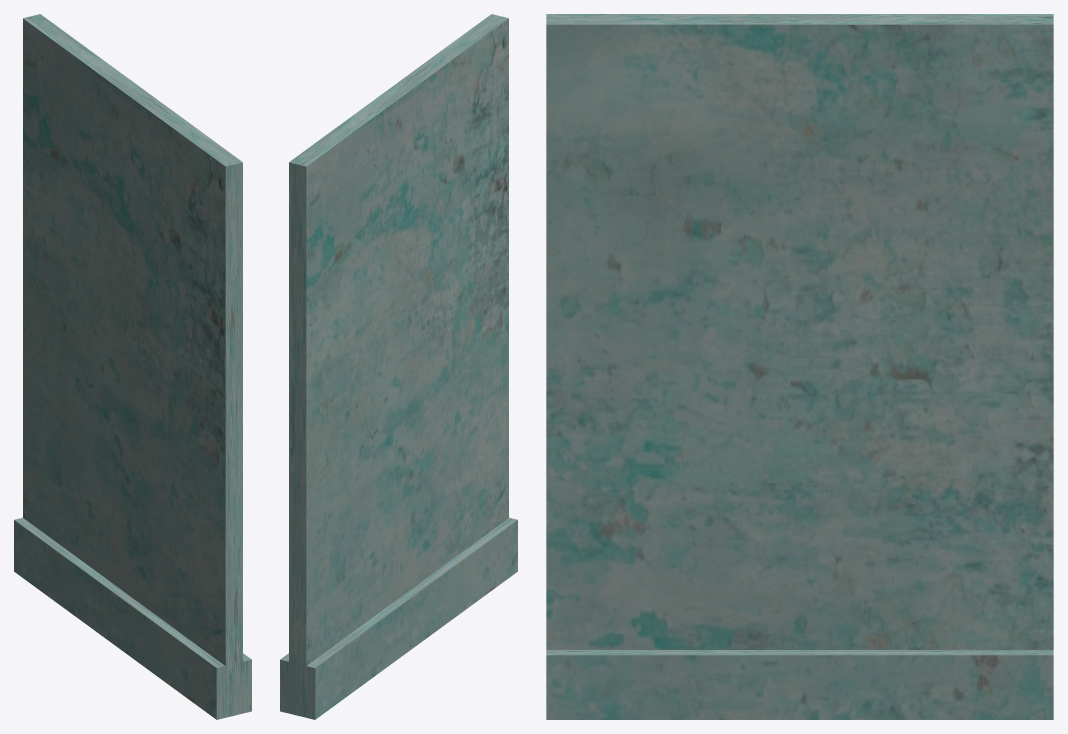
Rendered from Wall_2m.glb.
3 renders of one model, left to right at view 1: azimuth 30°, elevation 25°; view 2: azimuth 150°, elevation 25°; view 3: azimuth 270°, elevation 25°, orthographic. The views are drawn at different scales.
Parts seen in each view (by area): view 1: Wall 2m; view 2: Wall 2m; view 3: Wall 2m.
Part boxes in pixels (left/top/right/bottom): Wall 2m: left=14, top=14, right=251, bottom=719; Wall 2m: left=280, top=14, right=517, bottom=719; Wall 2m: left=546, top=14, right=1053, bottom=719.
Bounding box in the file's own units: 0.2 × 3 × 2.
1 material, 1 textured.
